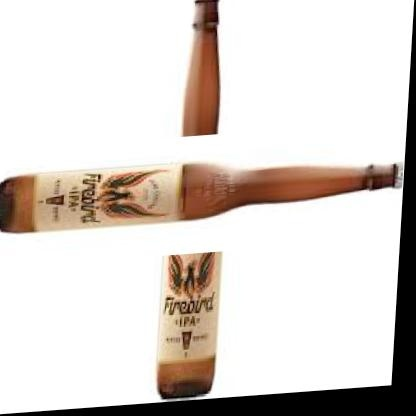trash: (0, 163, 397, 231), (158, 252, 220, 398)
